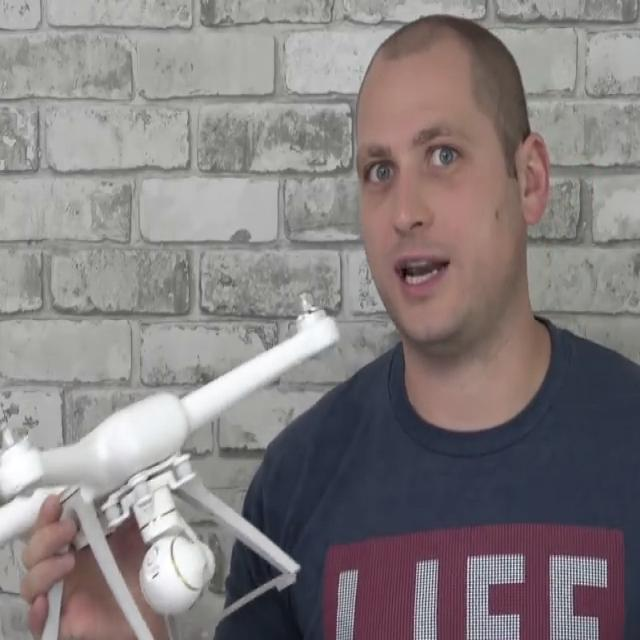drone: (0, 293, 363, 640)
